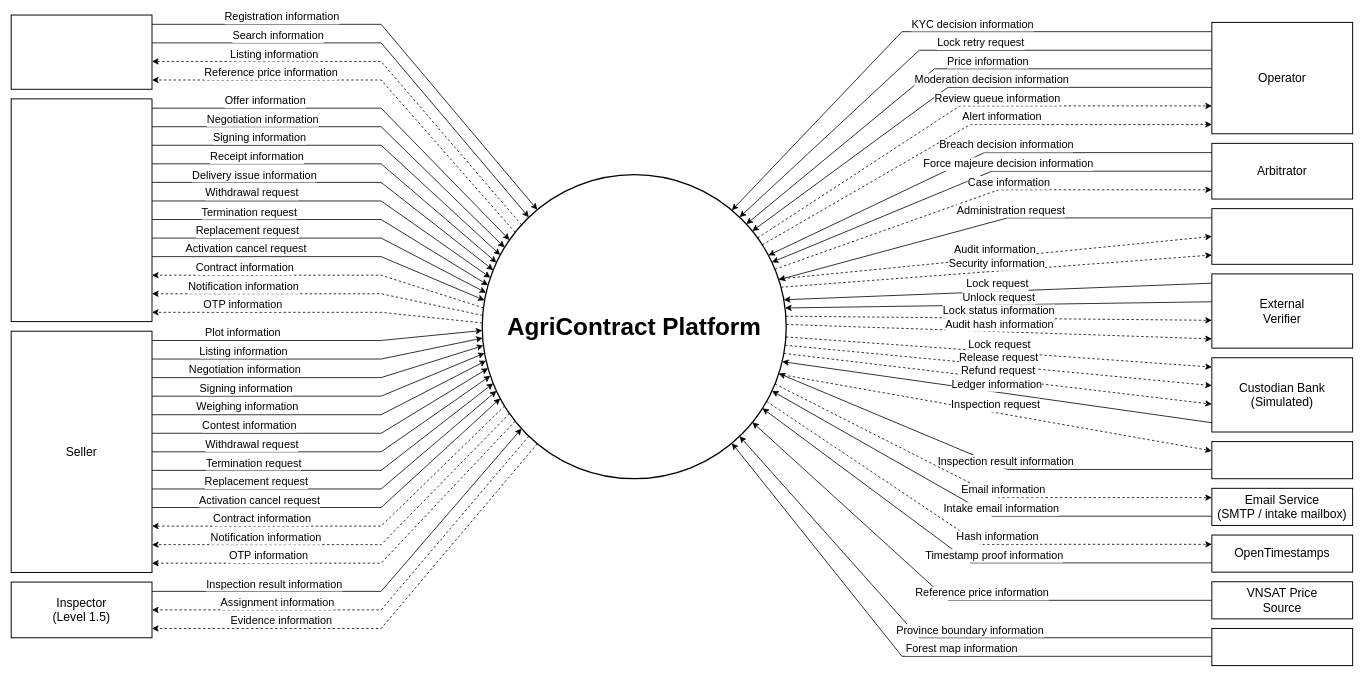
The diagram is 1364 pixels wide and 677 high, and some of its shapes have lost their labels. Here are the shapes that lost their labels. From the top down, the centre of each, then its label:
At (81,51): "Guest".
At (81,210): "Buyer".
At (1282,236): "Admin".
At (1282,460): "Level 2 Inspection Org".
At (1282,647): "Geo Datasets".
